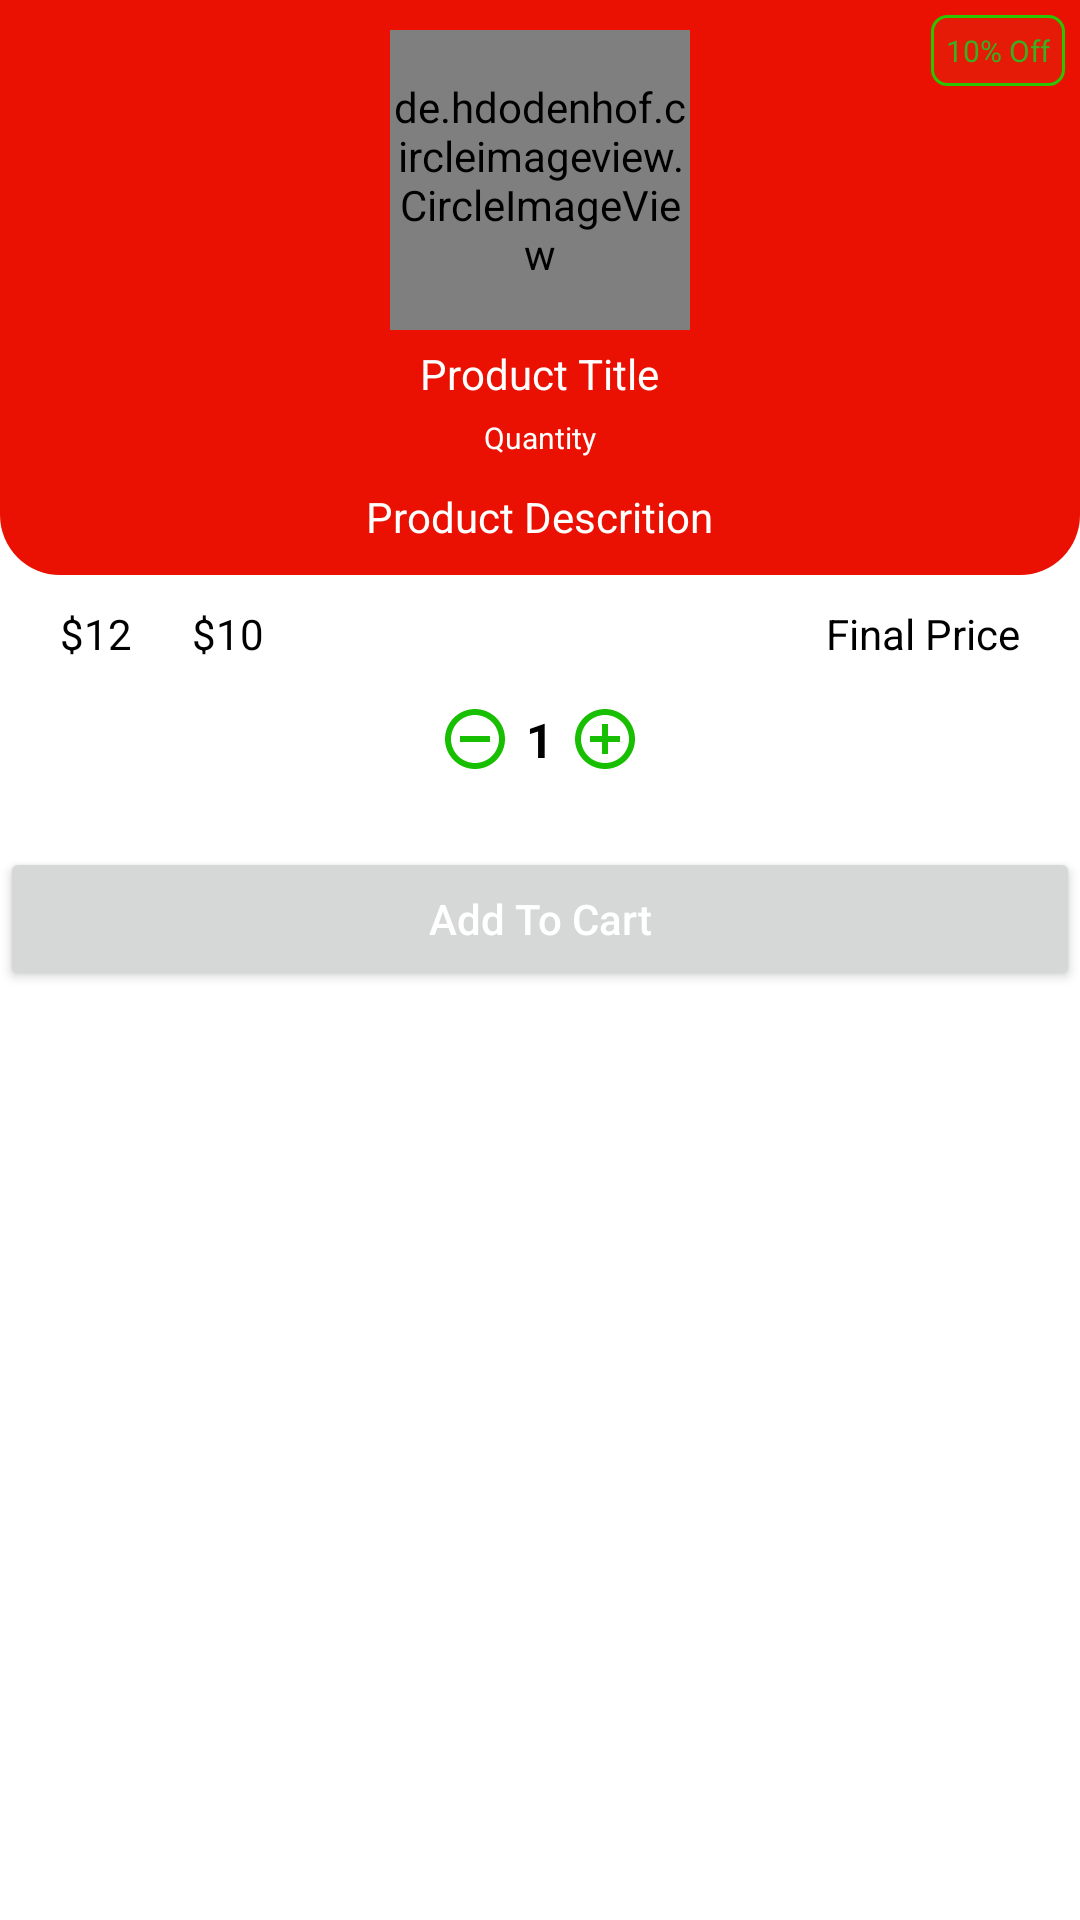

Point at icon controls on the screen. Image size 1080*1920, points as point (x, y).
add circle: point (605, 739)
remove circle: point (475, 739)
